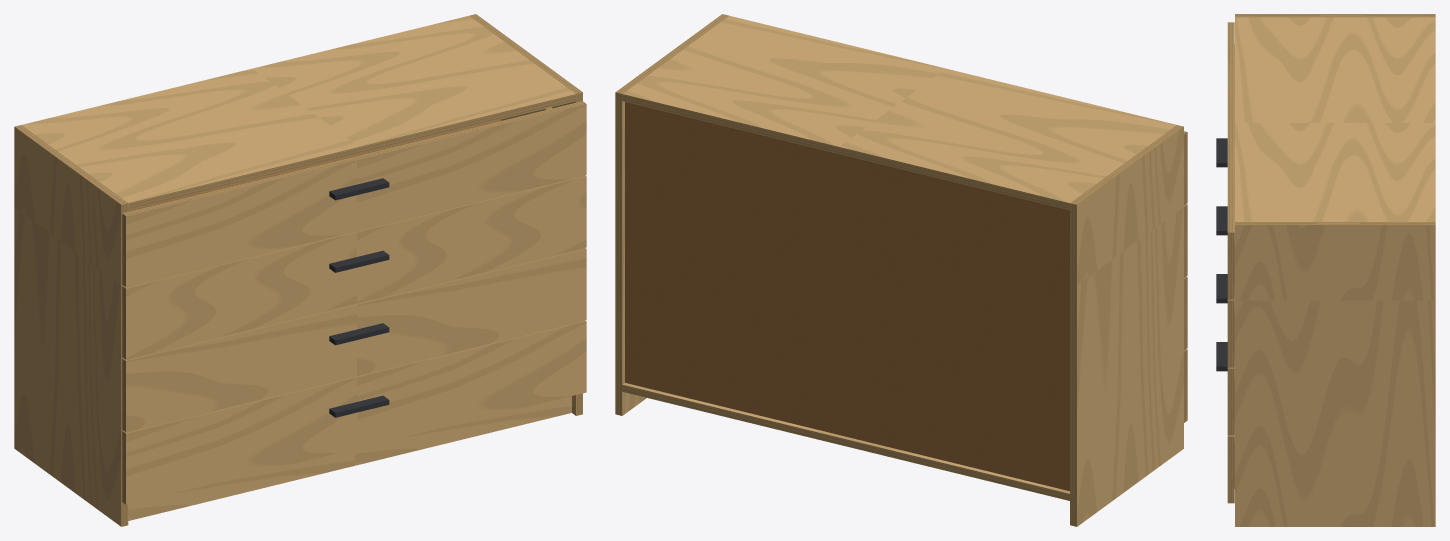
The model's file is HIN-DRS-std.glb.
3 renders of one model, left to right at view 1: azimuth 30°, elevation 25°; view 2: azimuth 150°, elevation 25°; view 3: azimuth 270°, elevation 25°, orthographic. The views are drawn at different scales.
Visible parts, largest first — view 1: top:sheet:eyJtIjoicGx5Iiwic2lkZSI6ImZhY2UiLCJzZWVkIjo2LCJ2ZW, side-l:sheet:eyJtIjoicGx5Iiwic2lkZSI6ImZhY2UiLCJzZWVkIjoxLCJ, d1-front:sheet:eyJtIjoicGx5Iiwic2lkZSI6ImZhY2UiLCJzZWVkIjoyL, d2-front:sheet:eyJtIjoicGx5Iiwic2lkZSI6ImZhY2UiLCJzZWVkIjo2L, d3-front:sheet:eyJtIjoicGx5Iiwic2lkZSI6ImZhY2UiLCJzZWVkIjowL, d4-front:sheet:eyJtIjoicGx5Iiwic2lkZSI6ImZhY2UiLCJzZWVkIjoyL, plinth:sheet:eyJtIjoicGx5Iiwic2lkZSI6ImZhY2UiLCJzZWVkIjozLCJ, top:sheet:eyJtIjoicGx5Iiwic2lkZSI6ImVkZ2UtbG9uZyIsInNlZWQiOj, pull, d4-front:sheet:eyJtIjoicGx5Iiwic2lkZSI6ImVkZ2UtbG9uZyIsInNlZ, d1-front:sheet:eyJtIjoicGx5Iiwic2lkZSI6ImVkZ2UtbG9uZyIsInNlZ, d2-front:sheet:eyJtIjoicGx5Iiwic2lkZSI6ImVkZ2UtbG9uZyIsInNlZ (+5 smaller); view 2: back:sheet:eyJtIjoibWRmIiwic2lkZSI6ImZhY2UiLCJzZWVkIjo0LCJ0a, top:sheet:eyJtIjoicGx5Iiwic2lkZSI6ImZhY2UiLCJzZWVkIjo2LCJ2ZW, side-l:sheet:eyJtIjoicGx5Iiwic2lkZSI6ImZhY2UiLCJzZWVkIjoxLCJ, top:sheet:eyJtIjoicGx5Iiwic2lkZSI6ImVkZ2UtbG9uZyIsInNlZWQiOj, bottom:sheet:eyJtIjoicGx5Iiwic2lkZSI6ImVkZ2UtbG9uZyIsInNlZWQ, side-r:sheet:eyJtIjoicGx5Iiwic2lkZSI6ImVkZ2UtbG9uZyIsInNlZWQ, side-l:sheet:eyJtIjoicGx5Iiwic2lkZSI6ImVkZ2UtbG9uZyIsInNlZWQ, bottom:sheet:eyJtIjoicGx5Iiwic2lkZSI6ImZhY2UiLCJzZWVkIjowLCJ, side-r:sheet:eyJtIjoicGx5Iiwic2lkZSI6ImZhY2UiLCJzZWVkIjozLCJ, side-r:sheet:eyJtIjoicGx5Iiwic2lkZSI6ImVkZ2UtZW5kIiwic2VlZCI, side-l:sheet:eyJtIjoicGx5Iiwic2lkZSI6ImVkZ2UtZW5kIiwic2VlZCI; view 3: side-r:sheet:eyJtIjoicGx5Iiwic2lkZSI6ImZhY2UiLCJzZWVkIjozLCJ, top:sheet:eyJtIjoicGx5Iiwic2lkZSI6ImZhY2UiLCJzZWVkIjo2LCJ2ZW, d4-front:sheet:eyJtIjoicGx5Iiwic2lkZSI6ImVkZ2UtbG9uZyIsInNlZ, pull, side-l:sheet:eyJtIjoicGx5Iiwic2lkZSI6ImVkZ2UtZW5kIiwic2VlZCI, side-r:sheet:eyJtIjoicGx5Iiwic2lkZSI6ImVkZ2UtZW5kIiwic2VlZCI, d3-front:sheet:eyJtIjoicGx5Iiwic2lkZSI6ImVkZ2UtZW5kIiwic2VlZ, d4-front:sheet:eyJtIjoicGx5Iiwic2lkZSI6ImVkZ2UtZW5kIiwic2VlZ, d1-front:sheet:eyJtIjoicGx5Iiwic2lkZSI6ImVkZ2UtZW5kIiwic2VlZ, d2-front:sheet:eyJtIjoicGx5Iiwic2lkZSI6ImVkZ2UtZW5kIiwic2VlZ.
Part boxes in pixels (x1,y1,x2,y2): top:sheet:eyJtIjoicGx5Iiwic2lkZSI6ImZhY2UiLCJzZWVkIjo2LCJ2ZW: (22, 16, 575, 202); side-l:sheet:eyJtIjoicGx5Iiwic2lkZSI6ImZhY2UiLCJzZWVkIjoxLCJ: (14, 127, 121, 526); d1-front:sheet:eyJtIjoicGx5Iiwic2lkZSI6ImZhY2UiLCJzZWVkIjoyL: (126, 321, 586, 504); d2-front:sheet:eyJtIjoicGx5Iiwic2lkZSI6ImZhY2UiLCJzZWVkIjo2L: (126, 249, 586, 432); d3-front:sheet:eyJtIjoicGx5Iiwic2lkZSI6ImZhY2UiLCJzZWVkIjowL: (126, 176, 586, 359); d4-front:sheet:eyJtIjoicGx5Iiwic2lkZSI6ImZhY2UiLCJzZWVkIjoyL: (126, 104, 586, 287); plinth:sheet:eyJtIjoicGx5Iiwic2lkZSI6ImZhY2UiLCJzZWVkIjozLCJ: (128, 396, 571, 520); top:sheet:eyJtIjoicGx5Iiwic2lkZSI6ImVkZ2UtbG9uZyIsInNlZWQiOj: (128, 94, 575, 210); pull: (329, 178, 389, 417); d4-front:sheet:eyJtIjoicGx5Iiwic2lkZSI6ImVkZ2UtbG9uZyIsInNlZ: (122, 101, 585, 215); d1-front:sheet:eyJtIjoicGx5Iiwic2lkZSI6ImVkZ2UtbG9uZyIsInNlZ: (122, 320, 585, 433); d2-front:sheet:eyJtIjoicGx5Iiwic2lkZSI6ImVkZ2UtbG9uZyIsInNlZ: (122, 248, 585, 360); back:sheet:eyJtIjoibWRmIiwic2lkZSI6ImZhY2UiLCJzZWVkIjo0LCJ0a: (625, 102, 1069, 491); top:sheet:eyJtIjoicGx5Iiwic2lkZSI6ImZhY2UiLCJzZWVkIjo2LCJ2ZW: (623, 15, 1176, 202); side-l:sheet:eyJtIjoicGx5Iiwic2lkZSI6ImZhY2UiLCJzZWVkIjoxLCJ: (1077, 127, 1183, 526); top:sheet:eyJtIjoicGx5Iiwic2lkZSI6ImVkZ2UtbG9uZyIsInNlZWQiOj: (622, 94, 1069, 210); bottom:sheet:eyJtIjoicGx5Iiwic2lkZSI6ImVkZ2UtbG9uZyIsInNlZWQ: (622, 384, 1069, 500); side-r:sheet:eyJtIjoicGx5Iiwic2lkZSI6ImVkZ2UtbG9uZyIsInNlZWQ: (615, 92, 622, 415); side-l:sheet:eyJtIjoicGx5Iiwic2lkZSI6ImVkZ2UtbG9uZyIsInNlZWQ: (1070, 203, 1076, 526); bottom:sheet:eyJtIjoicGx5Iiwic2lkZSI6ImZhY2UiLCJzZWVkIjowLCJ: (623, 383, 1069, 493); side-r:sheet:eyJtIjoicGx5Iiwic2lkZSI6ImZhY2UiLCJzZWVkIjozLCJ: (622, 101, 646, 415); side-r:sheet:eyJtIjoicGx5Iiwic2lkZSI6ImVkZ2UtZW5kIiwic2VlZCI: (616, 14, 728, 93); side-l:sheet:eyJtIjoicGx5Iiwic2lkZSI6ImVkZ2UtZW5kIiwic2VlZCI: (1070, 125, 1183, 204); side-r:sheet:eyJtIjoicGx5Iiwic2lkZSI6ImZhY2UiLCJzZWVkIjozLCJ: (1235, 225, 1435, 526); top:sheet:eyJtIjoicGx5Iiwic2lkZSI6ImZhY2UiLCJzZWVkIjo2LCJ2ZW: (1235, 17, 1435, 221); d4-front:sheet:eyJtIjoicGx5Iiwic2lkZSI6ImVkZ2UtbG9uZyIsInNlZ: (1227, 22, 1234, 232); pull: (1216, 138, 1227, 371); side-l:sheet:eyJtIjoicGx5Iiwic2lkZSI6ImVkZ2UtZW5kIiwic2VlZCI: (1235, 14, 1435, 17); side-r:sheet:eyJtIjoicGx5Iiwic2lkZSI6ImVkZ2UtZW5kIiwic2VlZCI: (1235, 222, 1435, 224); d3-front:sheet:eyJtIjoicGx5Iiwic2lkZSI6ImVkZ2UtZW5kIiwic2VlZ: (1227, 300, 1234, 367); d4-front:sheet:eyJtIjoicGx5Iiwic2lkZSI6ImVkZ2UtZW5kIiwic2VlZ: (1227, 232, 1234, 299); d1-front:sheet:eyJtIjoicGx5Iiwic2lkZSI6ImVkZ2UtZW5kIiwic2VlZ: (1227, 436, 1234, 503); d2-front:sheet:eyJtIjoicGx5Iiwic2lkZSI6ImVkZ2UtZW5kIiwic2VlZ: (1227, 368, 1234, 435).
Bounding box in the file's own units: 1.2 × 0.8 × 0.527.
91 materials, 90 textured.
